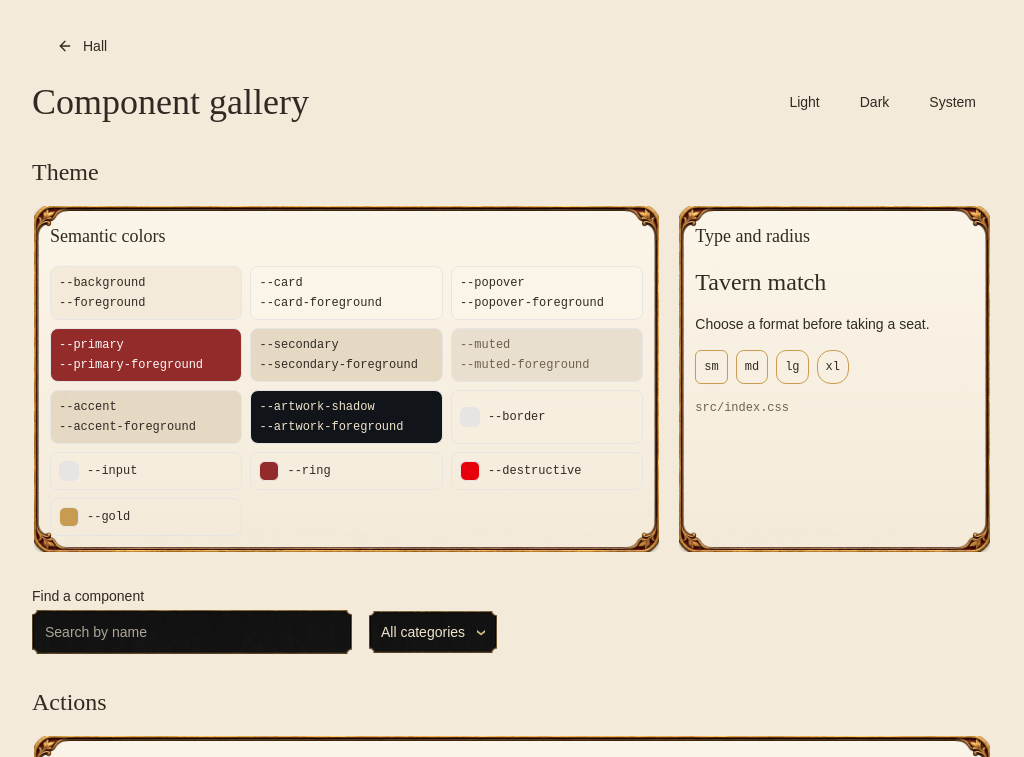
Scenario: finds feature-local overlays by name and opens their real preview
Type "LeaveMatchDialog" into the search field labelled "Find a component" at (192, 632), box [32, 610, 352, 654]
(page scrolled)
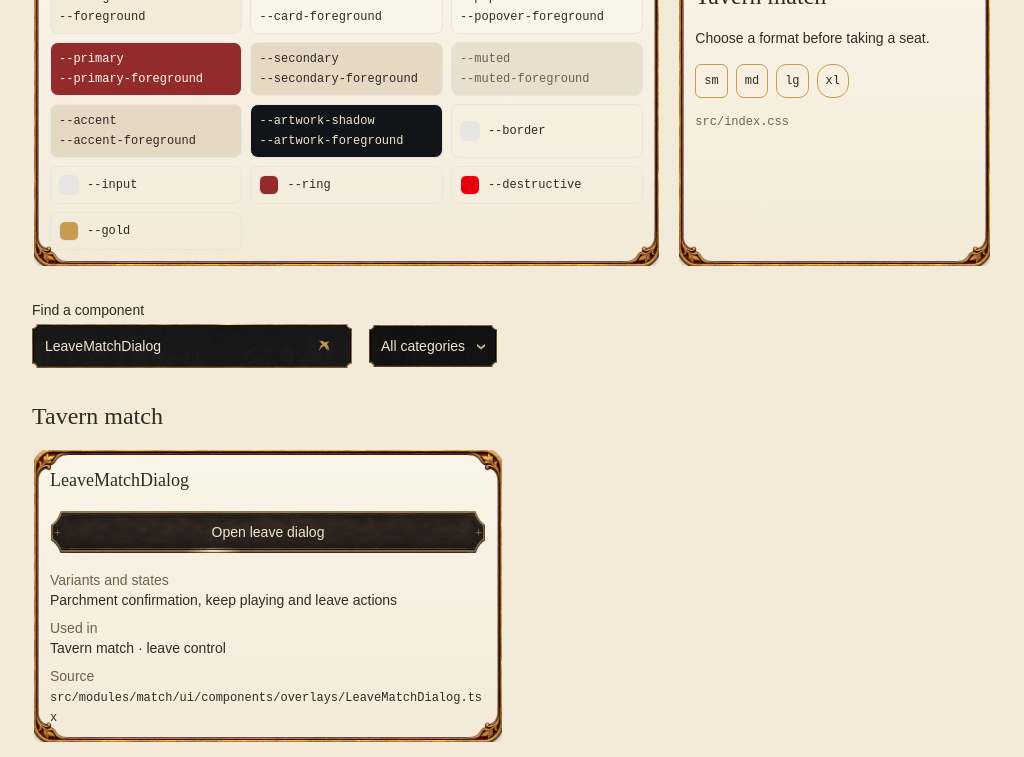
Expected: the text "src/modules/match/ui/components/overlays/LeaveMatchDialog.tsx" is shown, [50, 691, 482, 725]
Click the button "Open leave dialog" at (268, 532), box [50, 510, 486, 554]
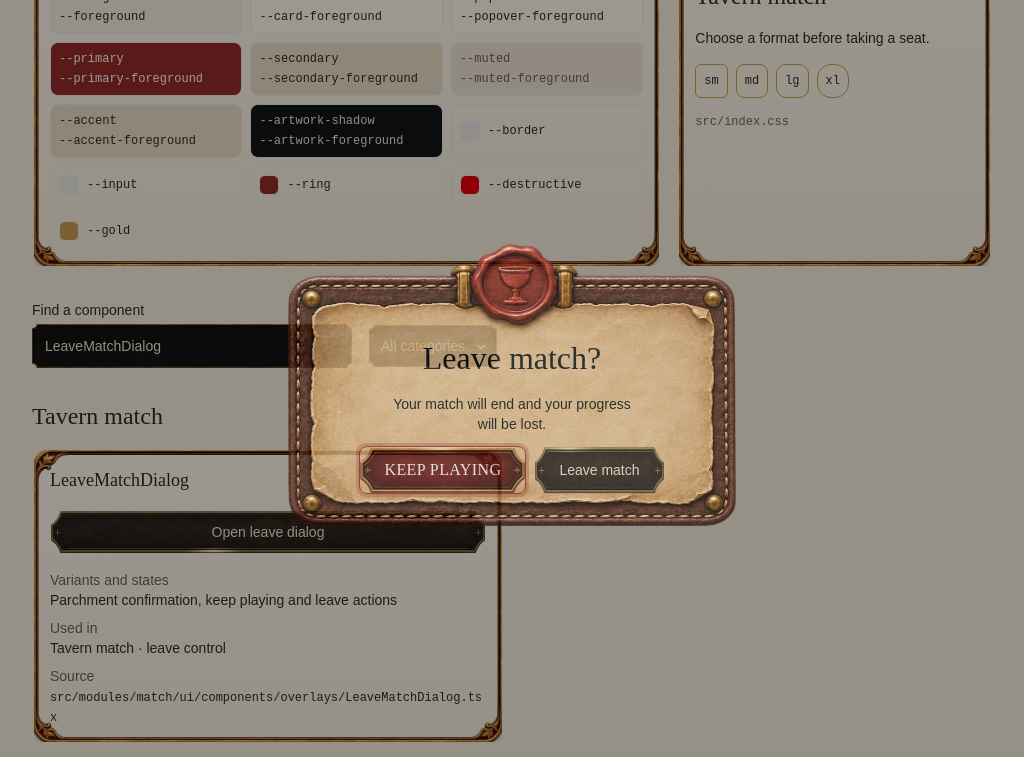
Expected: the dialog "Leave match?" is shown, [288, 244, 736, 526]
Press Escape
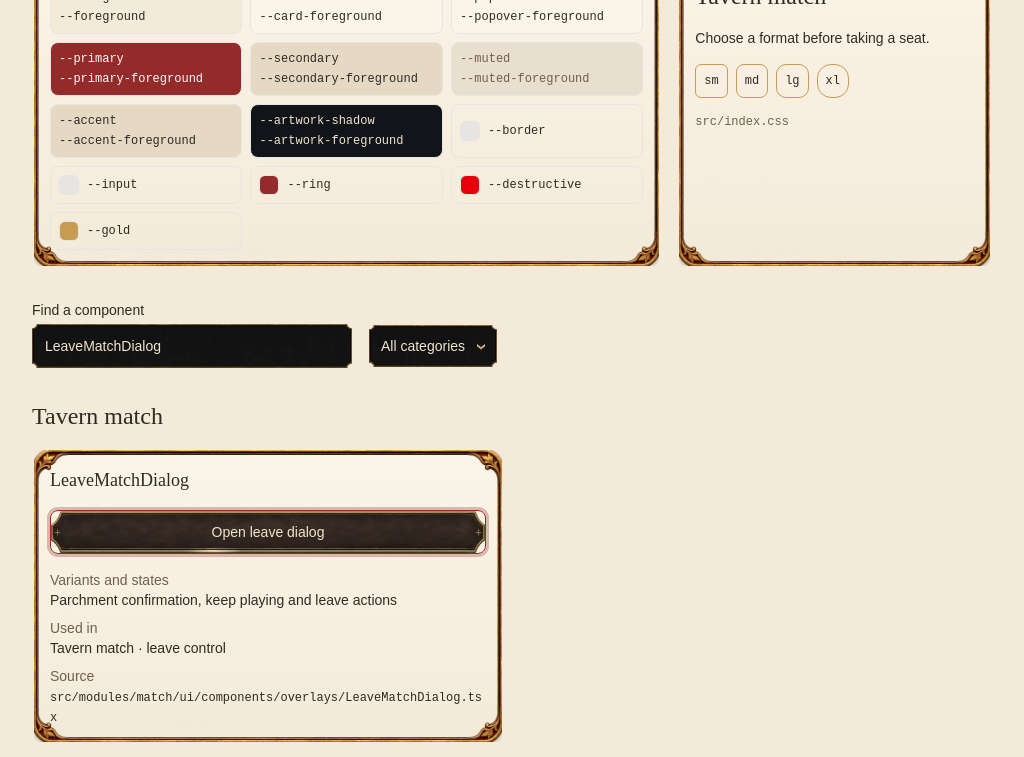
Expected: the heading "Leave match?" is gone
